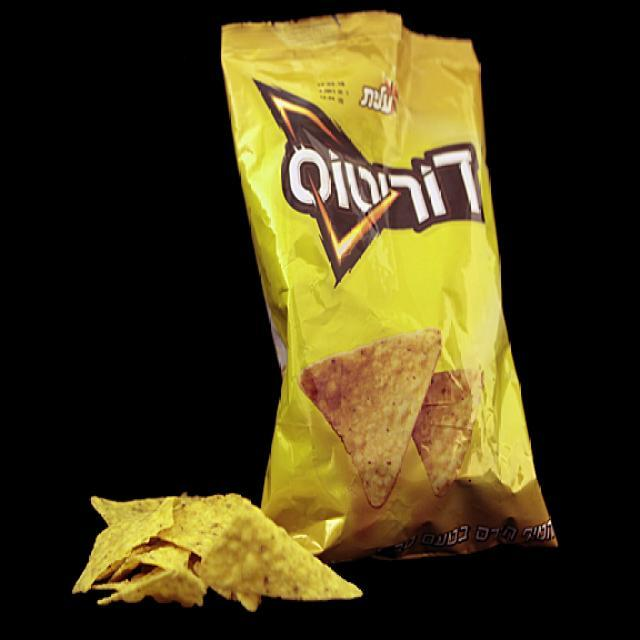Chips: (209, 21, 561, 627)
Chips packaged: (69, 472, 369, 640)
